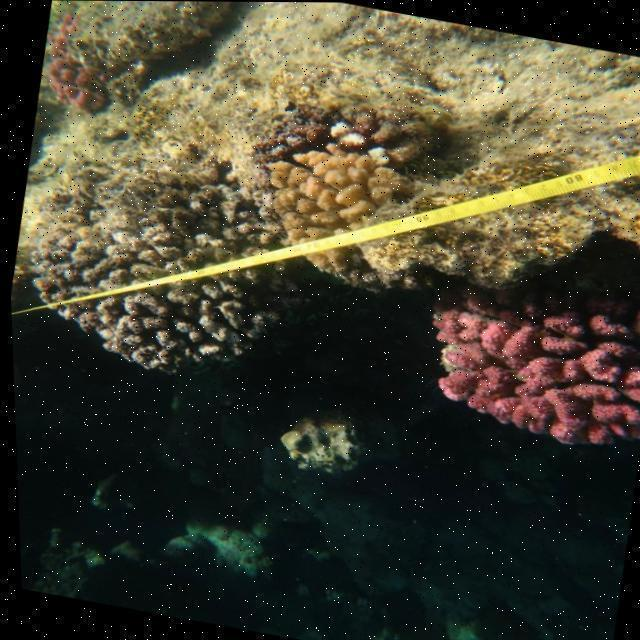Healthy Coral: (408, 259, 640, 454), (34, 38, 117, 127)
